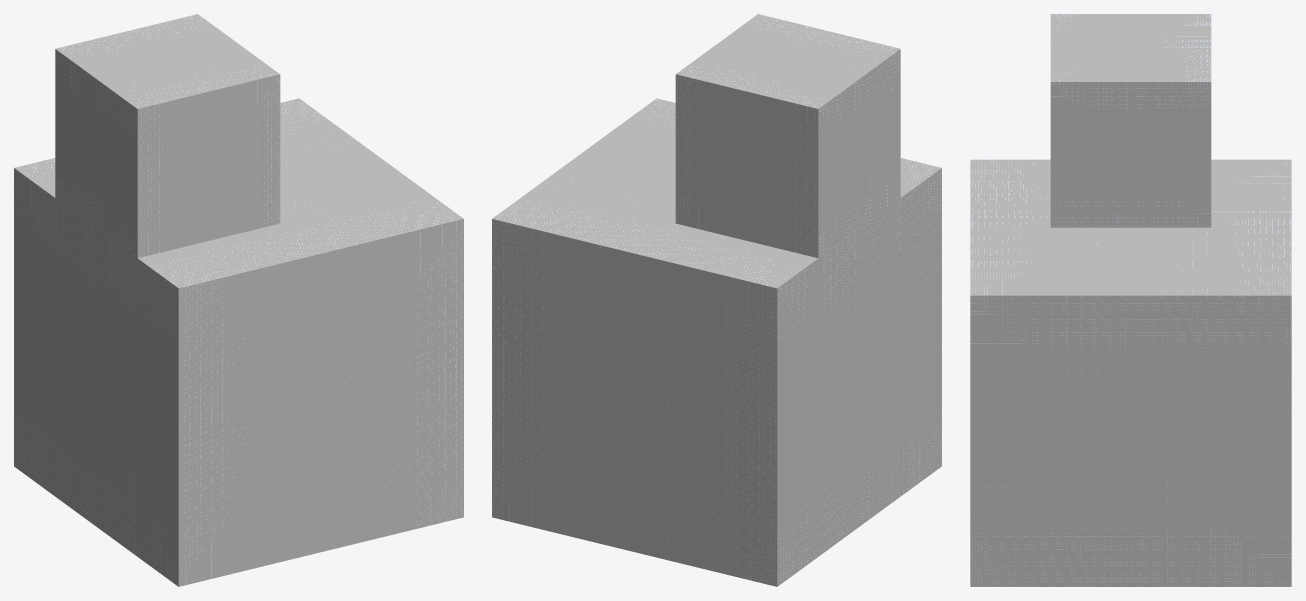
Rendered from silver-fragment.fbx.
3 renders of one model, left to right at view 1: azimuth 30°, elevation 25°; view 2: azimuth 150°, elevation 25°; view 3: azimuth 270°, elevation 25°, orthographic. The views are drawn at different scales.
Parts seen in each view (by area): view 1: generated; view 2: generated; view 3: generated.
Boxes of the visible parts, x1,y1,x2,y2 form: generated: [14, 14, 463, 586]; generated: [492, 14, 941, 586]; generated: [970, 14, 1291, 586].
Bounding box in the file's own units: 20 × 30 × 20.
Materials: 1 (1 with a texture image).
